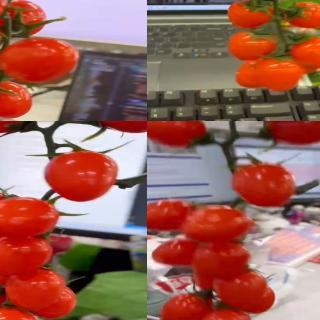tomato: (0, 39, 81, 88), (44, 149, 117, 199), (230, 162, 296, 209), (180, 204, 254, 244), (4, 265, 67, 311), (189, 238, 252, 279), (0, 196, 58, 239), (7, 285, 77, 320), (214, 268, 269, 311), (0, 234, 52, 274), (147, 121, 212, 148), (147, 199, 195, 235), (0, 0, 46, 37), (158, 291, 216, 320), (227, 30, 278, 61), (150, 236, 199, 268), (226, 0, 275, 30), (259, 121, 320, 145), (258, 61, 303, 93), (0, 79, 33, 119), (0, 226, 36, 262), (231, 58, 268, 89), (289, 35, 320, 69), (281, 1, 320, 27), (198, 306, 252, 320), (97, 121, 147, 133)
